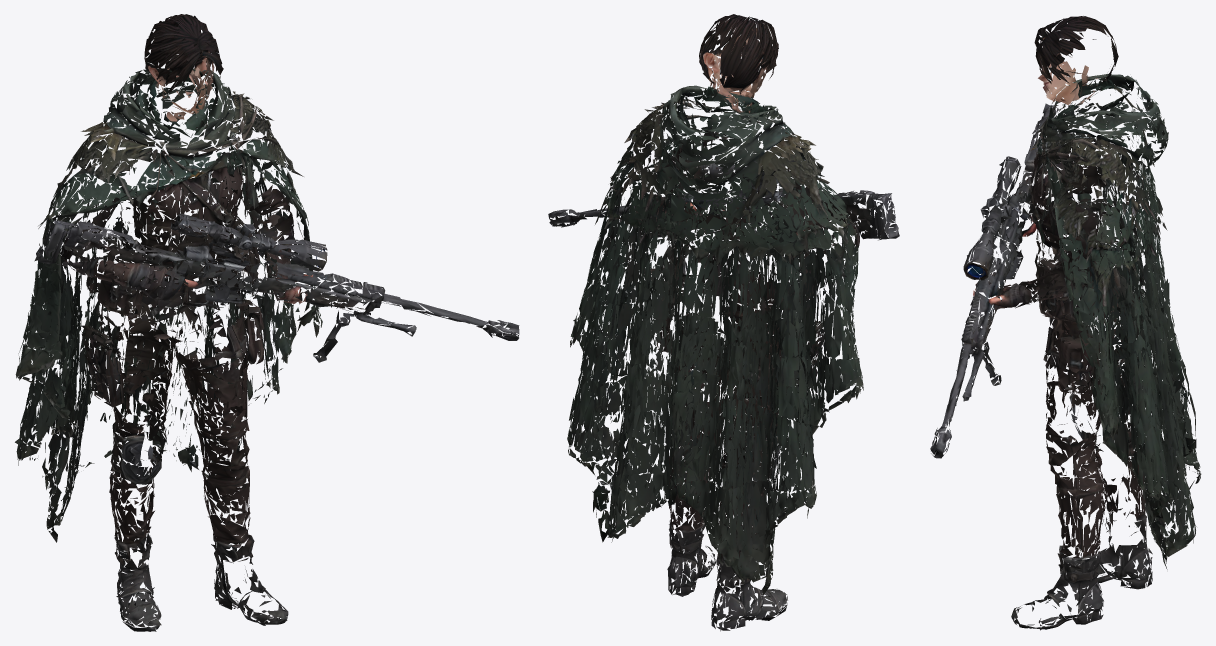
File: sniper_hero.glb
The picture shows the model from 3 angles, left to right: view 1: azimuth 30°, elevation 25°; view 2: azimuth 150°, elevation 25°; view 3: azimuth 270°, elevation 25°; orthographic projection. The views are drawn at different scales.
Parts seen in each view (by area): view 1: tripo_node_ed78d496-c23c-4b2c-a8ba-971808ea8f91; view 2: tripo_node_ed78d496-c23c-4b2c-a8ba-971808ea8f91; view 3: tripo_node_ed78d496-c23c-4b2c-a8ba-971808ea8f91.
Part boxes in pixels (box(x1,y1,x2,y2)): tripo_node_ed78d496-c23c-4b2c-a8ba-971808ea8f91: box(15, 14, 519, 631); tripo_node_ed78d496-c23c-4b2c-a8ba-971808ea8f91: box(548, 14, 899, 631); tripo_node_ed78d496-c23c-4b2c-a8ba-971808ea8f91: box(930, 16, 1201, 630).
Size of the model in its own units: 1.36 by 1.86 by 0.7965.
Materials: 1 (1 with a texture image).
